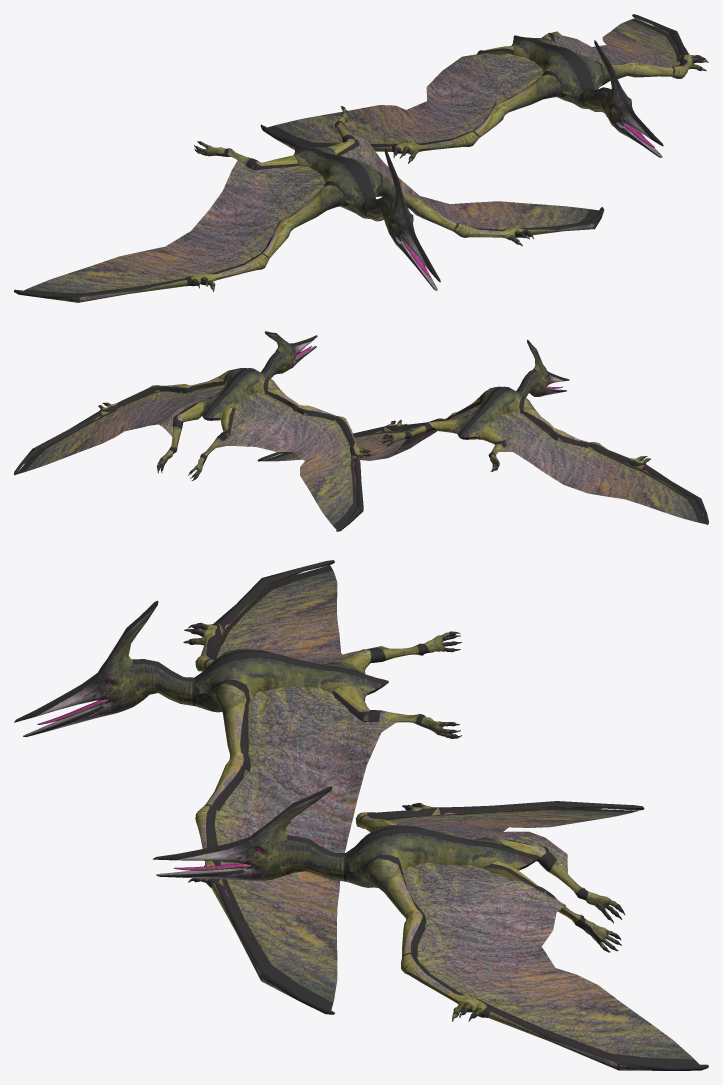
3 renders of one model, top to bottom at view 1: azimuth 30°, elevation 25°; view 2: azimuth 150°, elevation 25°; view 3: azimuth 270°, elevation 25°, orthographic. The views are drawn at different scales.
Parts seen in each view (by area): view 1: Mesh1 default_object c341_5818_0165_bf49_1 Model, Mesh5 default_object c341_5818_0165_bf49_1 Model, Mesh11 default_object1 G_9b69_bd8a_2a64_b991_1 Model, Mesh7 default_object1 G_9b69_bd8a_2a64_b991_1 Model, Mesh6 default_object c341_5818_0165_bf49_1 Model, Mesh12 default_object1 G_9b69_bd8a_2a64_b991_1 Model; view 2: Mesh11 default_object1 G_9b69_bd8a_2a64_b991_1 Model, Mesh7 default_object1 G_9b69_bd8a_2a64_b991_1 Model, Mesh5 default_object c341_5818_0165_bf49_1 Model, Mesh1 default_object c341_5818_0165_bf49_1 Model, Mesh12 default_object1 G_9b69_bd8a_2a64_b991_1 Model, Mesh6 default_object c341_5818_0165_bf49_1 Model; view 3: Mesh6 default_object c341_5818_0165_bf49_1 Model, Mesh12 default_object1 G_9b69_bd8a_2a64_b991_1 Model, Mesh7 default_object1 G_9b69_bd8a_2a64_b991_1 Model, Mesh1 default_object c341_5818_0165_bf49_1 Model, Mesh5 default_object c341_5818_0165_bf49_1 Model, Mesh11 default_object1 G_9b69_bd8a_2a64_b991_1 Model.
Boxes of the visible parts, bbox=[...] form: Mesh1 default_object c341_5818_0165_bf49_1 Model: bbox=[14, 106, 604, 302]; Mesh5 default_object c341_5818_0165_bf49_1 Model: bbox=[24, 160, 325, 293]; Mesh11 default_object1 G_9b69_bd8a_2a64_b991_1 Model: bbox=[267, 53, 543, 144]; Mesh7 default_object1 G_9b69_bd8a_2a64_b991_1 Model: bbox=[260, 14, 708, 163]; Mesh6 default_object c341_5818_0165_bf49_1 Model: bbox=[340, 134, 599, 229]; Mesh12 default_object1 G_9b69_bd8a_2a64_b991_1 Model: bbox=[551, 18, 680, 66]; Mesh11 default_object1 G_9b69_bd8a_2a64_b991_1 Model: bbox=[215, 392, 356, 529]; Mesh7 default_object1 G_9b69_bd8a_2a64_b991_1 Model: bbox=[14, 331, 372, 531]; Mesh5 default_object c341_5818_0165_bf49_1 Model: bbox=[490, 411, 706, 524]; Mesh1 default_object c341_5818_0165_bf49_1 Model: bbox=[257, 339, 708, 524]; Mesh12 default_object1 G_9b69_bd8a_2a64_b991_1 Model: bbox=[16, 384, 225, 474]; Mesh6 default_object c341_5818_0165_bf49_1 Model: bbox=[261, 404, 480, 461]; Mesh6 default_object c341_5818_0165_bf49_1 Model: bbox=[214, 686, 397, 1009]; Mesh12 default_object1 G_9b69_bd8a_2a64_b991_1 Model: bbox=[403, 862, 699, 1064]; Mesh7 default_object1 G_9b69_bd8a_2a64_b991_1 Model: bbox=[153, 786, 708, 1070]; Mesh1 default_object c341_5818_0165_bf49_1 Model: bbox=[14, 560, 461, 1014]; Mesh5 default_object c341_5818_0165_bf49_1 Model: bbox=[215, 565, 388, 664]; Mesh11 default_object1 G_9b69_bd8a_2a64_b991_1 Model: bbox=[387, 808, 638, 873].
Bounding box in the file's own units: 5600 × 1243 × 3347.
Materials: 1 (1 with a texture image).
